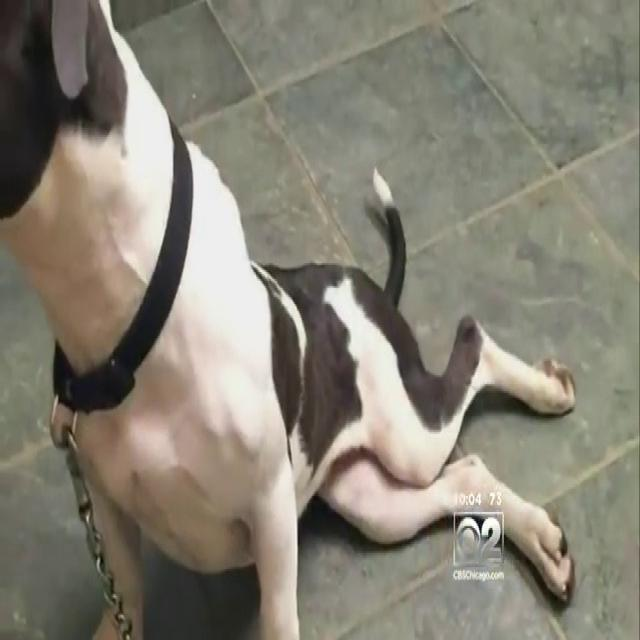normal_animals: (3, 3, 581, 633)
